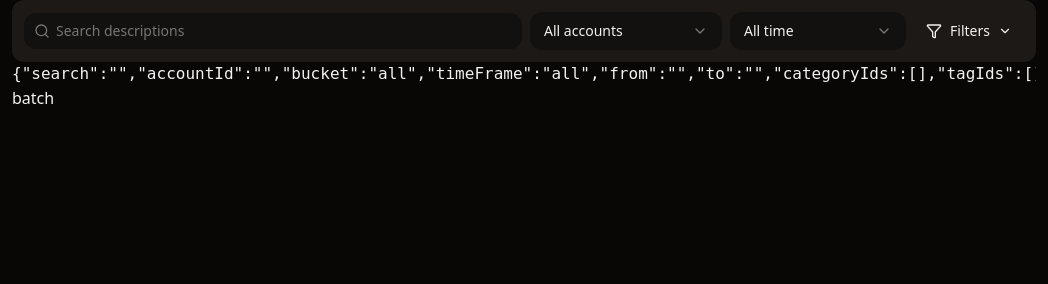
Test: SearchSurface › clears every filter at once
Click the button with test id "filters-toggle" at [969, 31], box [914, 13, 1024, 49]
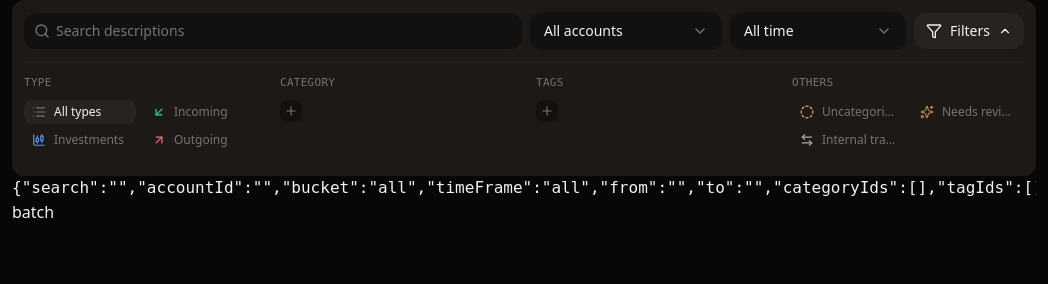
Click the button with test id "toggle-uncategorized" at [848, 112], box [792, 100, 904, 124]
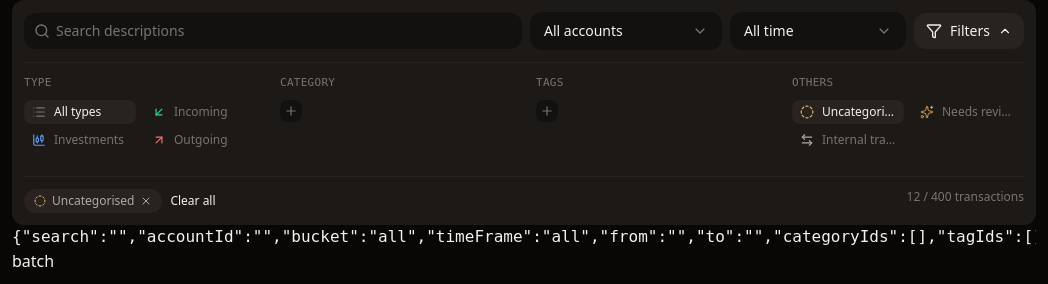
Click the button with test id "toggle-needs-review" at [968, 112], box [912, 100, 1024, 124]
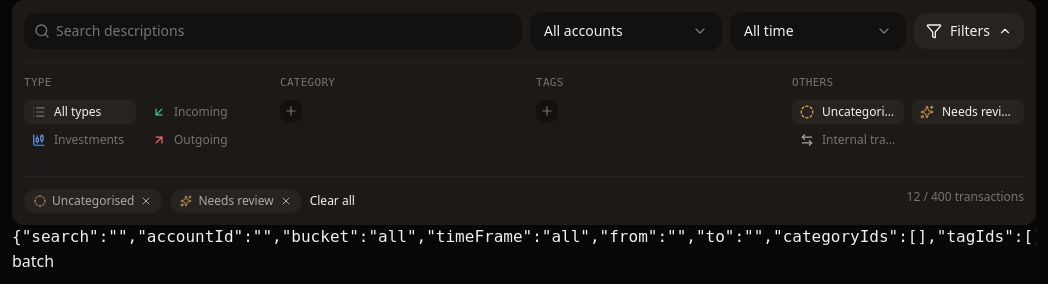
Click the button with test id "clear-all" at [332, 200], box [310, 192, 355, 208]
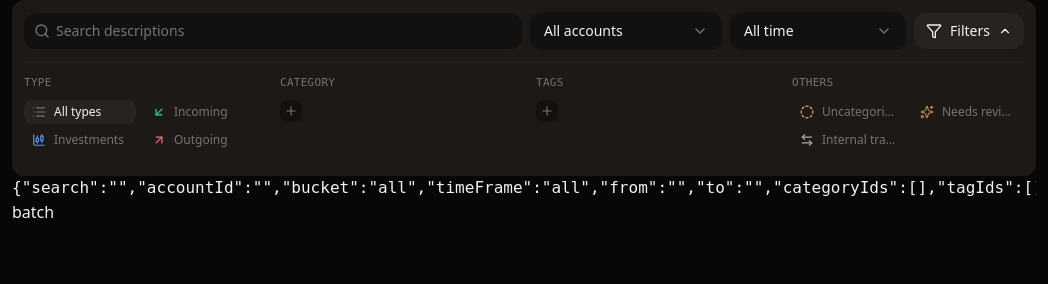
Expected: the element with test id "active-filters" is gone
